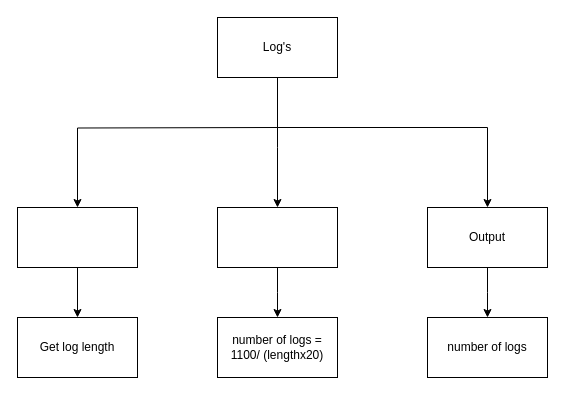
Some shapes in this 565 by 395 pixel diagram are drawn without their labels. The centre of each missing label's shape, as x and y in pixels:
Input: the point at 77,237
Process: the point at 277,237
